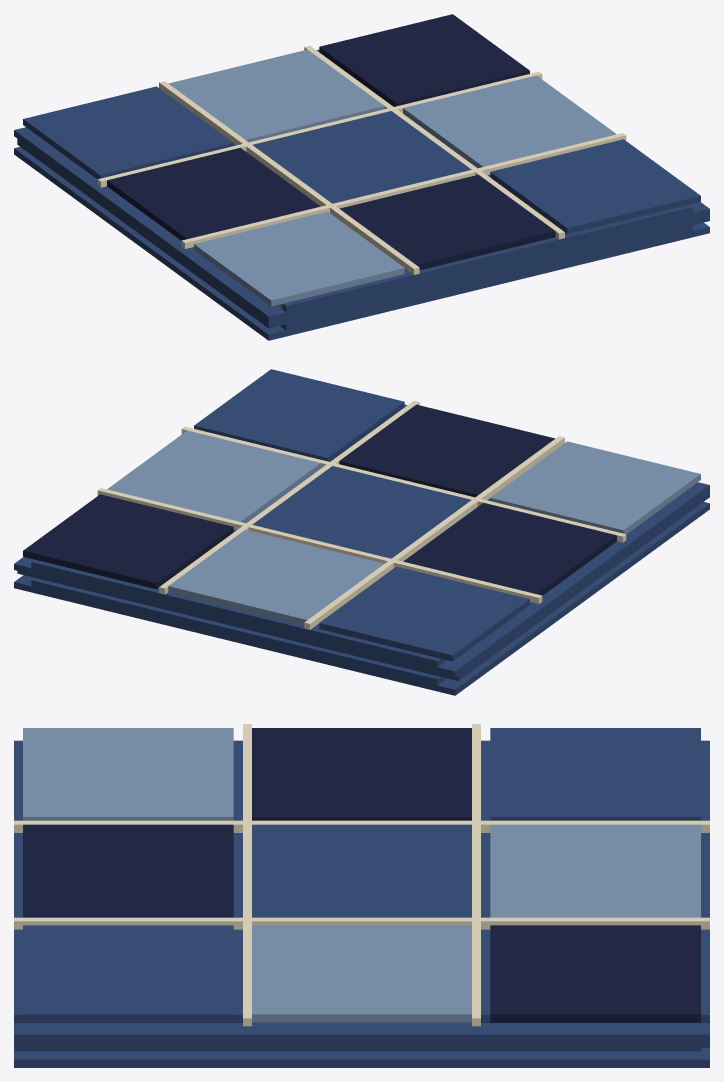
File: sheet_denim_patchwork.glb
The picture shows the model from 3 angles, top to bottom: view 1: azimuth 30°, elevation 25°; view 2: azimuth 150°, elevation 25°; view 3: azimuth 270°, elevation 25°; orthographic projection. The views are drawn at different scales.
Parts seen in each view (by area): view 1: sheet_denim_patchwork:compound; view 2: sheet_denim_patchwork:compound; view 3: sheet_denim_patchwork:compound.
Boxes of the visible parts, bbox=[...] form: sheet_denim_patchwork:compound: bbox=[14, 14, 709, 340]; sheet_denim_patchwork:compound: bbox=[14, 369, 709, 695]; sheet_denim_patchwork:compound: bbox=[14, 724, 709, 1067].
Bounding box in the file's own units: 0.152 × 0.012 × 0.152.
